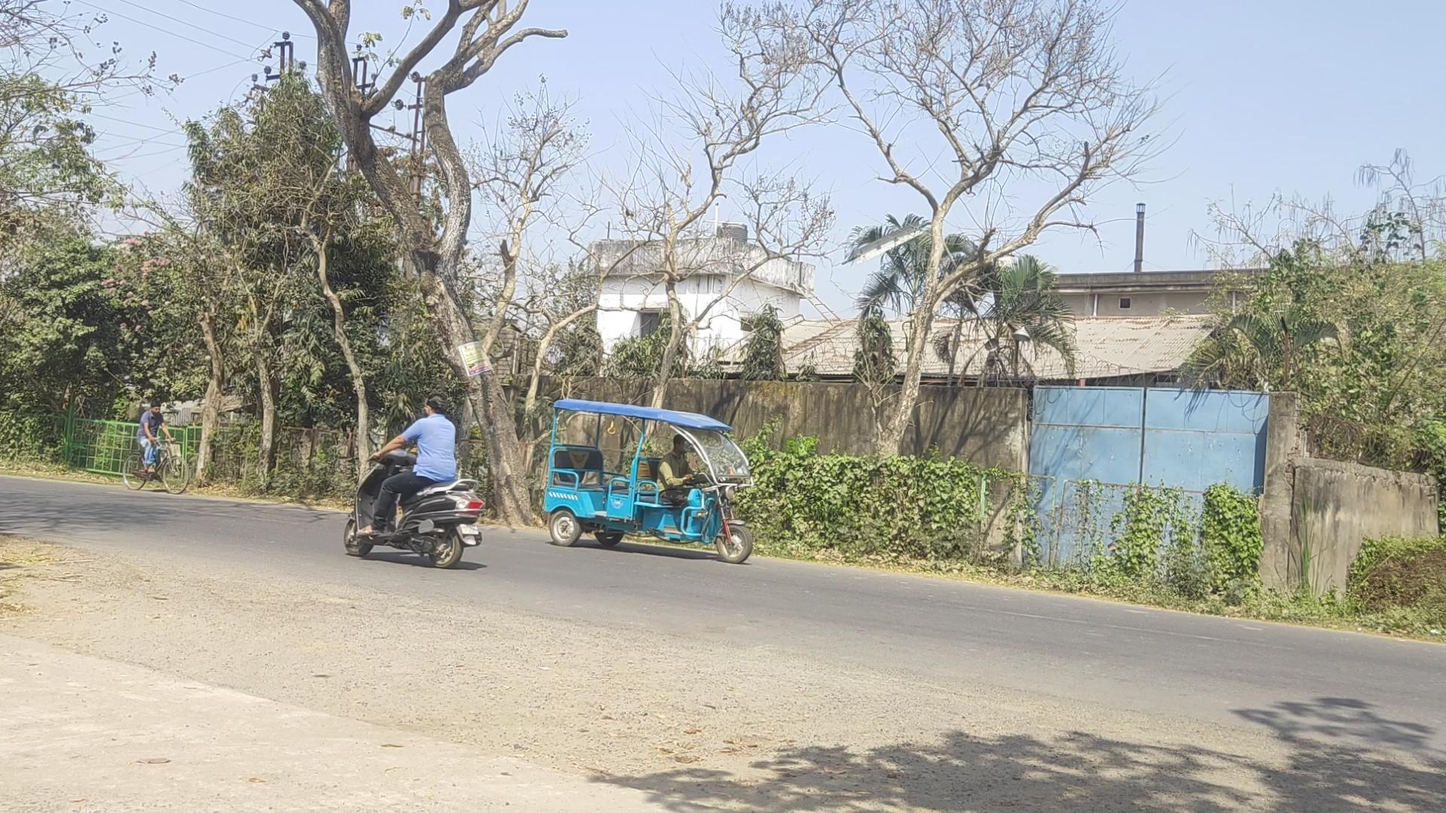Auto: (543, 398, 753, 565)
bike: (343, 393, 485, 569), (122, 401, 190, 495)
